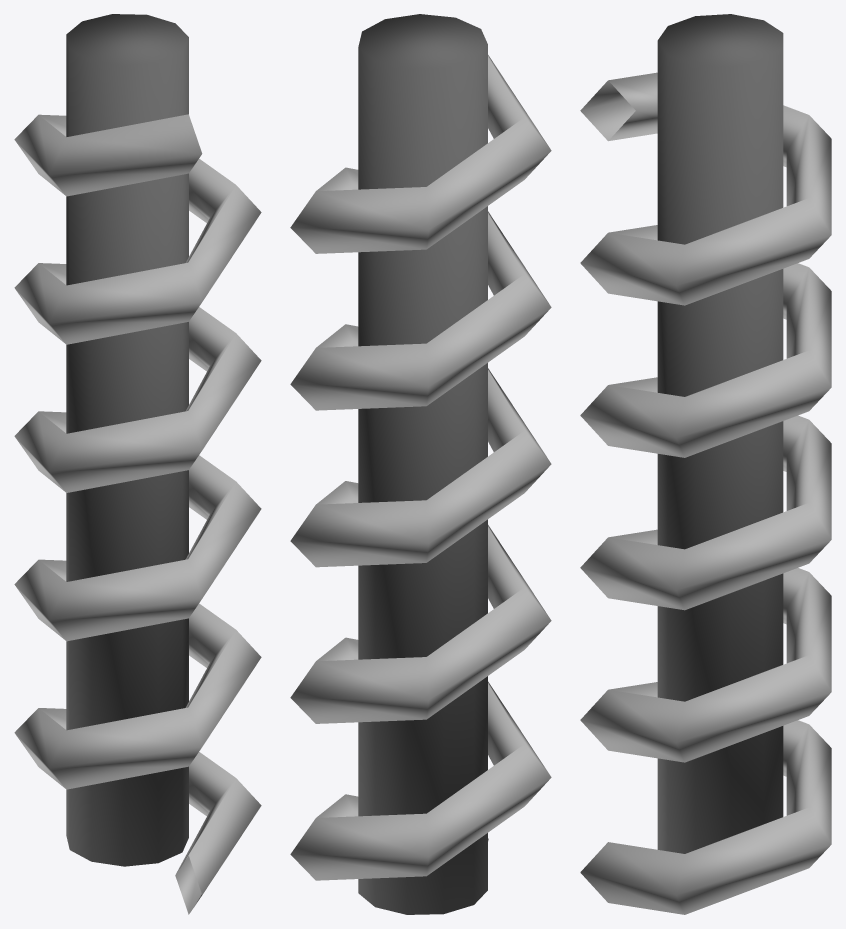
Rendered from race_car_coil.fbx.
The picture shows the model from 3 angles, left to right: view 1: azimuth 30°, elevation 25°; view 2: azimuth 150°, elevation 25°; view 3: azimuth 270°, elevation 25°; orthographic projection. The views are drawn at different scales.
Parts seen in each view (by area): view 1: RaceCarCoil; view 2: RaceCarCoil; view 3: RaceCarCoil.
Part boxes in pixels (x1,y1,x2,y2): RaceCarCoil: [14, 14, 261, 914]; RaceCarCoil: [290, 14, 551, 914]; RaceCarCoil: [580, 14, 831, 914].
Size of the model in its own units: 0.3552 by 0.3552 by 1.34.
